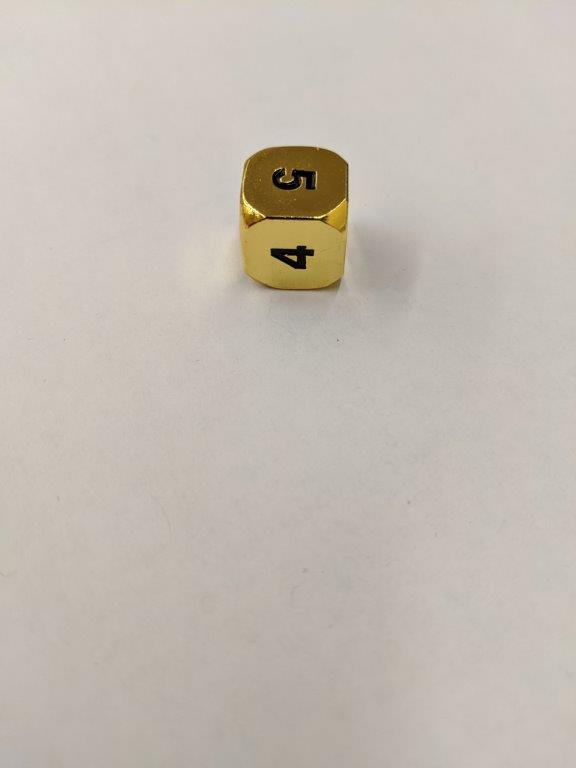d6-5: (237, 144, 351, 290)
